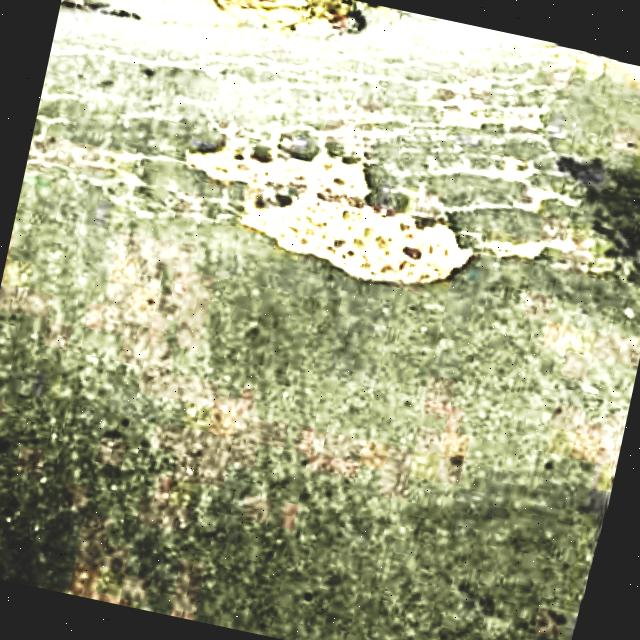pothole: (180, 112, 490, 300)
